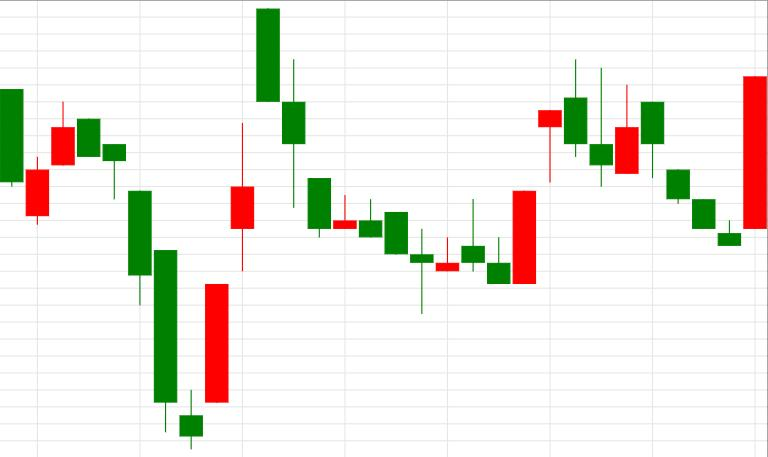bullish_engulfing_rise: (256, 8, 535, 313)
morning_star_rise: (52, 101, 228, 450), (615, 76, 768, 246)
